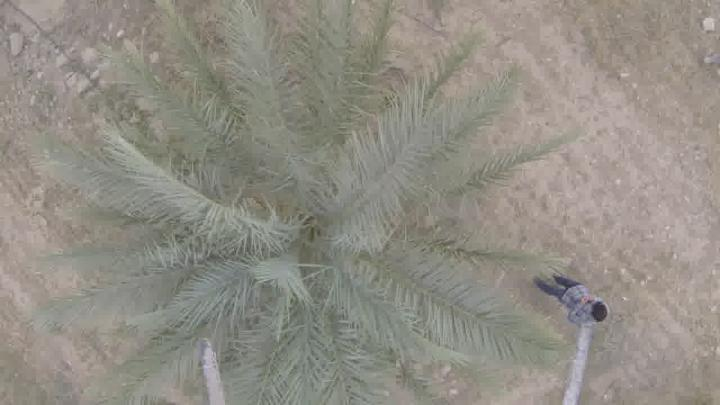Date-Palm-Crown: (156, 61, 472, 405)
